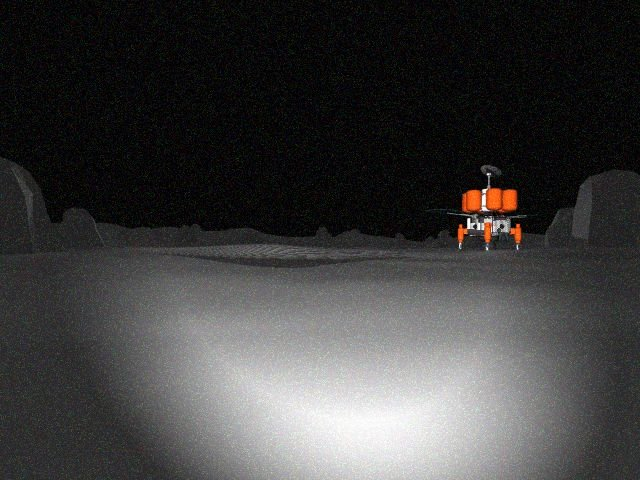homebase: (424, 162, 547, 254)
